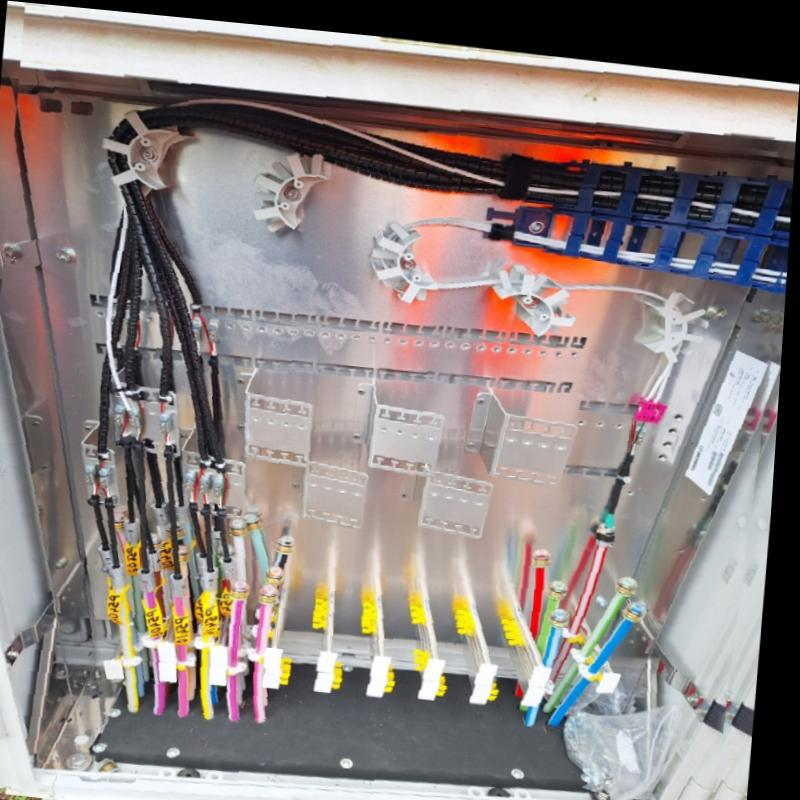NT-Gehause: (0, 1, 800, 800)
